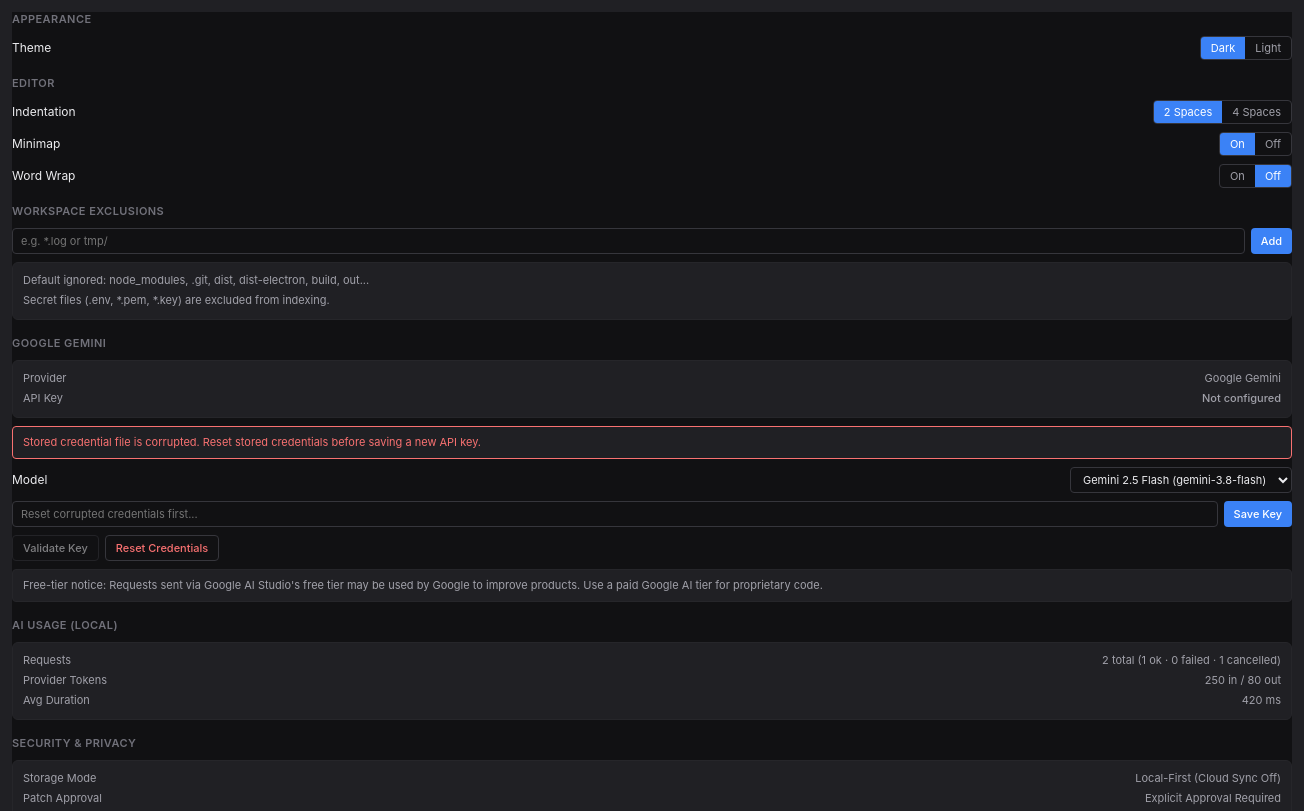
SettingsPanel — Google Gemini Configuration › requires explicit reset when stored credentials are corrupted before allowing a new key
Expected: the message with test id "ai-encryption-warning" shows "corrupted", [23,434,481,448]
Expected: the password field named "Gemini API key" is disabled, [12,501,1218,527]
Step 1. Click the button "Reset Credentials" → [162, 548], box [105,535,219,561]
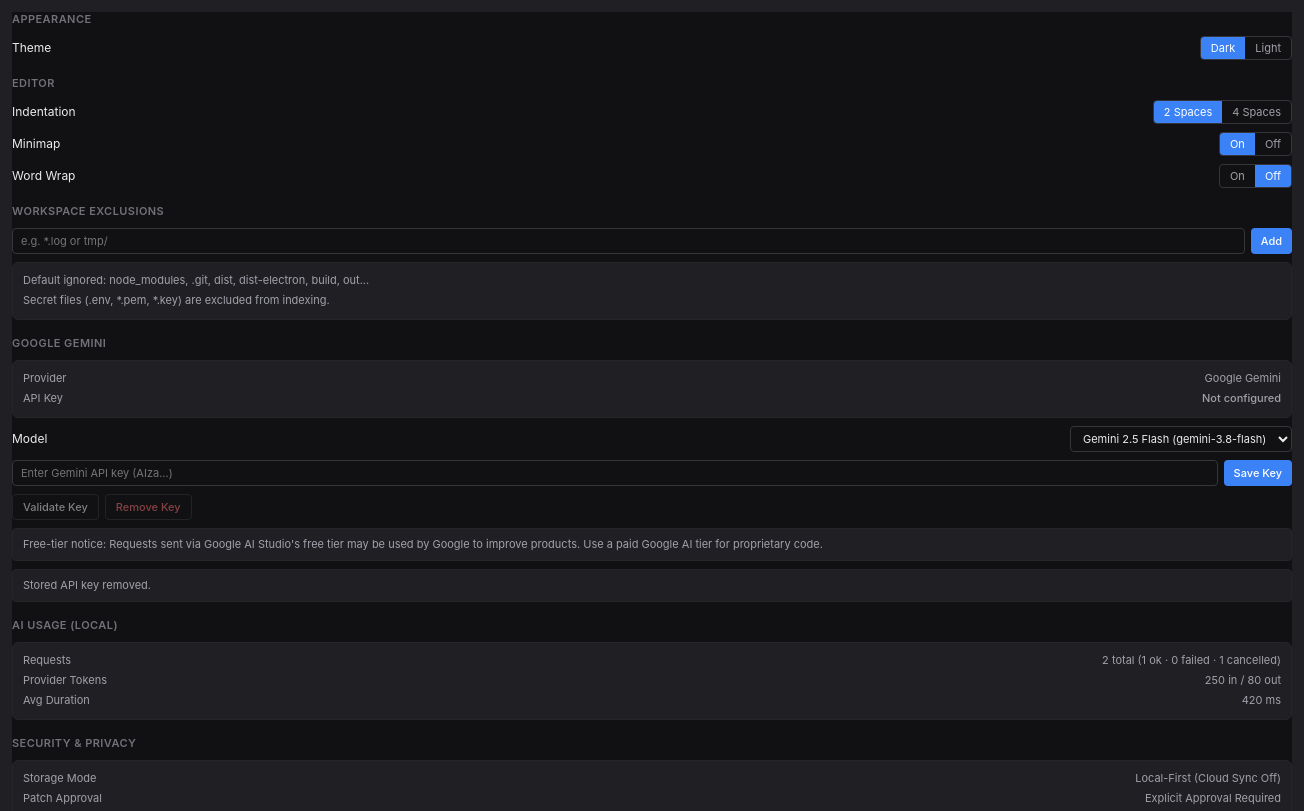
Now the password field labelled "Gemini API key" is enabled, box [12,460,1218,486]
